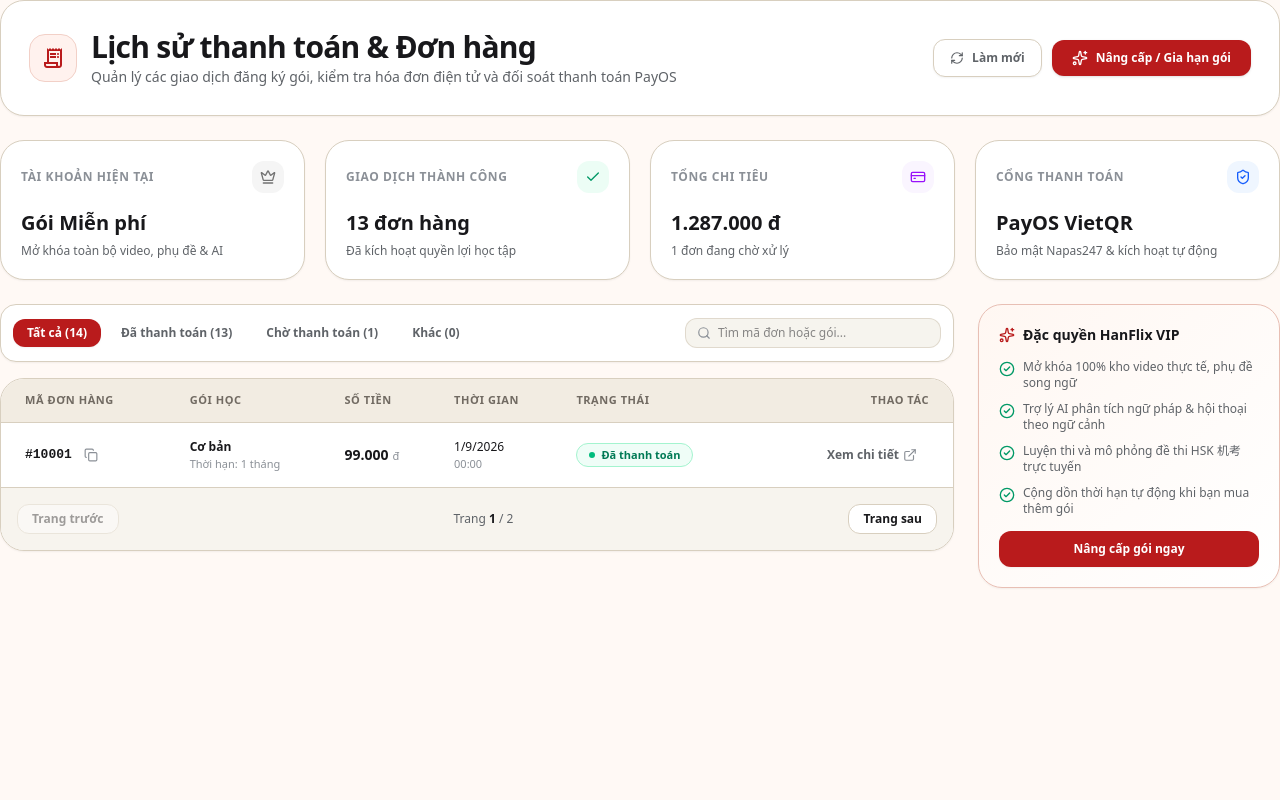
Test: keeps lifetime totals across pages and searches older orders from page one
The image size is (1280, 800).
Expected: the text "1.287.000 đ" is shown, [671,209,781,236]
Expected: the button "Tất cả (14)" is shown, [13,319,101,347]
Click the button "Trang sau" at (893, 519), box [848,504,937,534]
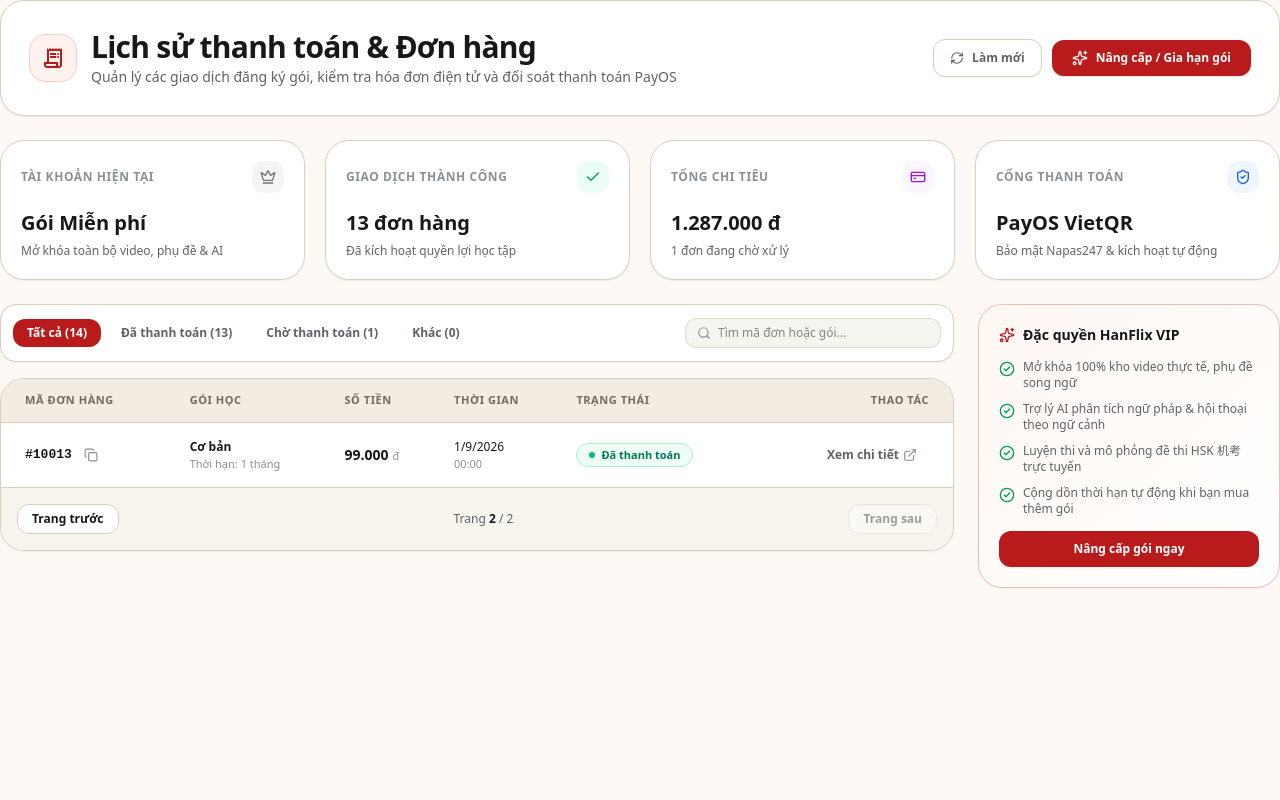
Expected: the text "1.287.000 đ" is shown, [671,209,781,236]
Type "#10013" into the field with placeholder "Tìm mã đơn hoặc gói..." at (813, 333), box [685,318,941,348]
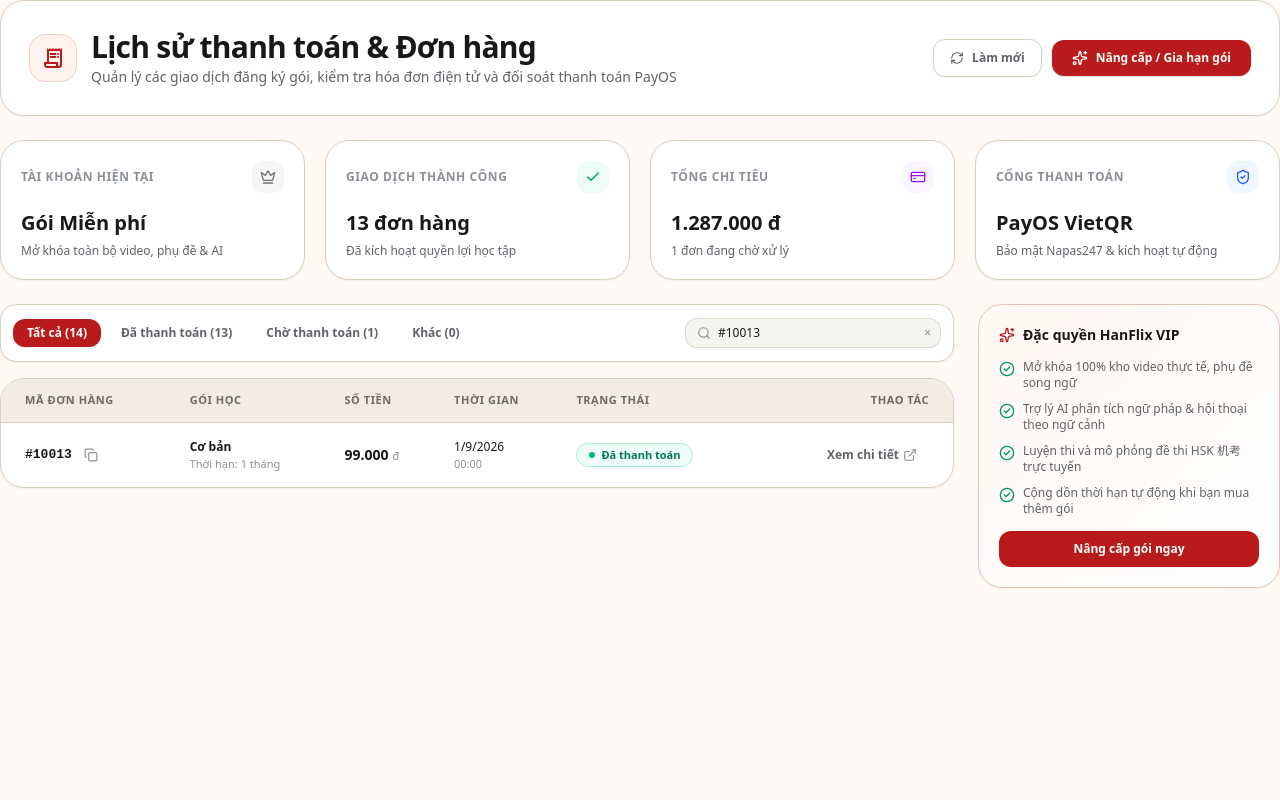
Expected: the text "1.287.000 đ" is shown, [671,209,781,236]
Result: the button "Trang sau" is gone
